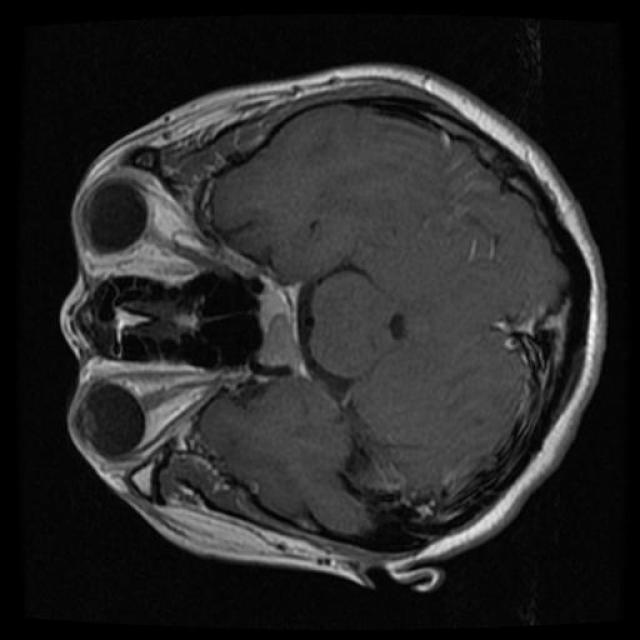Pituitary: (258, 279, 312, 379)
